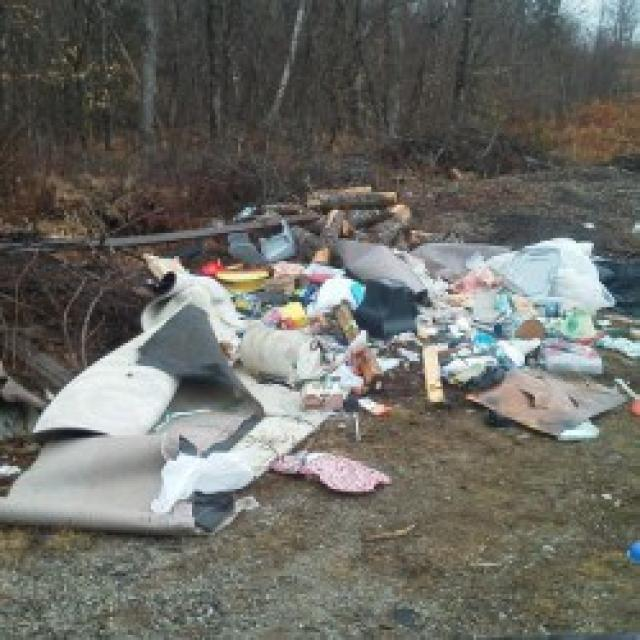garbage: (0, 220, 636, 578)
